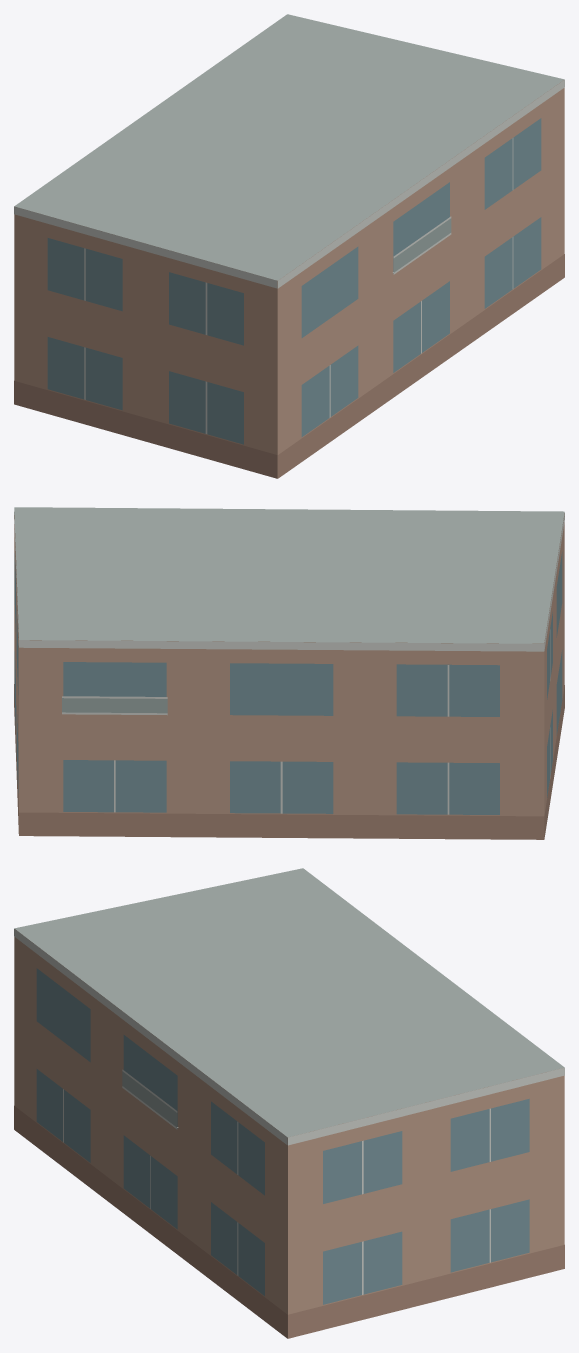
File: survey-upis-32761657.glb
3 renders of one model, top to bottom at view 1: azimuth 30°, elevation 25°; view 2: azimuth 150°, elevation 25°; view 3: azimuth 270°, elevation 25°, orthographic. The views are drawn at different scales.
Parts seen in each view (by area): view 1: survey-upis-32761657.tmp; view 2: survey-upis-32761657.tmp; view 3: survey-upis-32761657.tmp.
Boxes of the visible parts, box(x1,y1,x2,y2) form: survey-upis-32761657.tmp: box(14, 14, 564, 478); survey-upis-32761657.tmp: box(14, 507, 564, 839); survey-upis-32761657.tmp: box(14, 868, 564, 1338).
Bounding box in the file's own units: 17.52 × 6.1 × 15.14.
